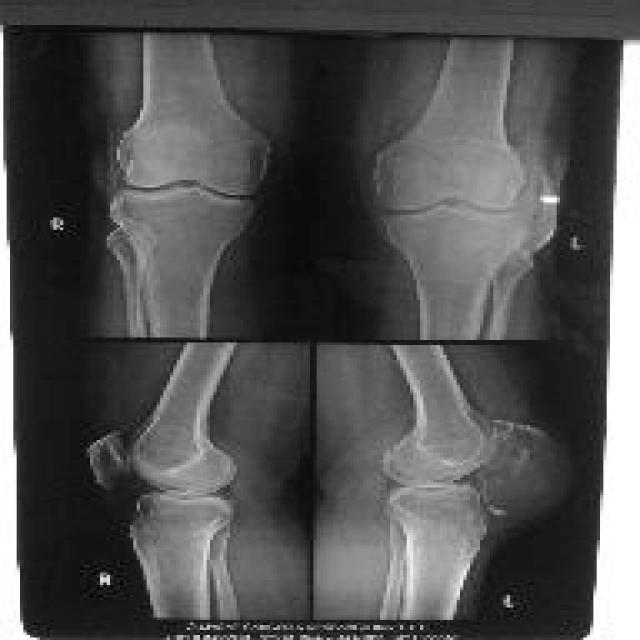bone-cancer: (468, 417, 570, 536), (511, 125, 558, 254)
